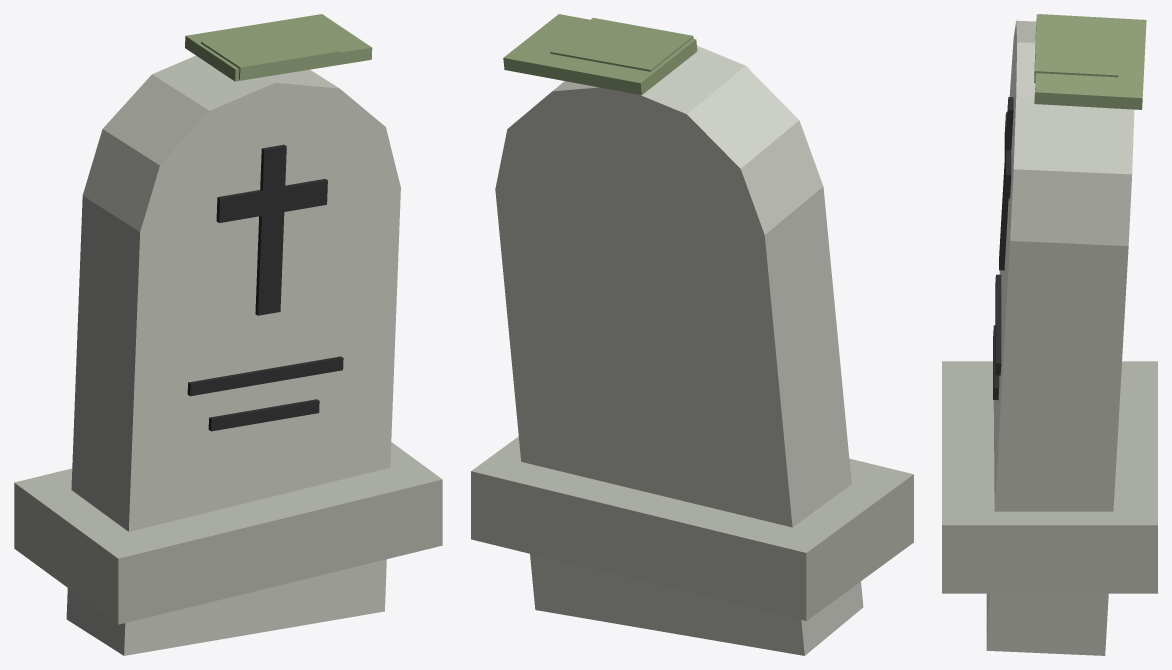
Rendered from gravestone.glb.
3 renders of one model, left to right at view 1: azimuth 30°, elevation 25°; view 2: azimuth 150°, elevation 25°; view 3: azimuth 270°, elevation 25°, orthographic. The views are drawn at different scales.
Parts seen in each view (by area): view 1: gravestone; view 2: gravestone; view 3: gravestone.
Part boxes in pixels (x1=…): gravestone: x1=14, y1=14, x2=442, y2=655; gravestone: x1=471, y1=14, x2=913, y2=655; gravestone: x1=942, y1=14, x2=1157, y2=655.
Bounding box in the file's own units: 0.72 × 1.19 × 0.4.
